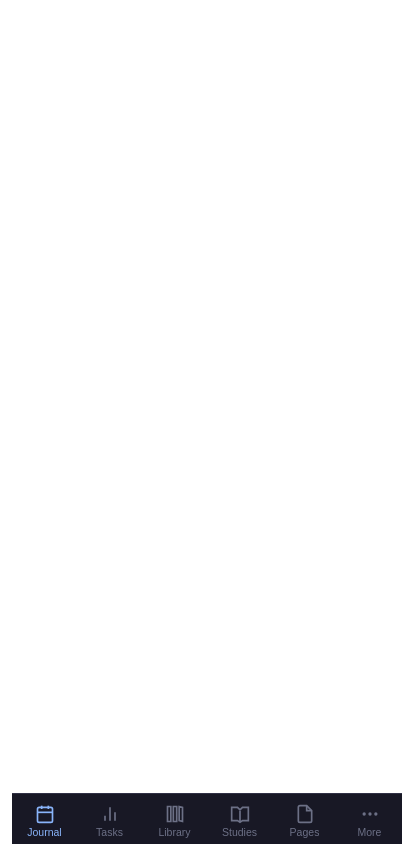
Test case: More menu › is a labelled menu button that reports whether it is open
Click the button "More" at (370, 821), box [337, 798, 402, 843]
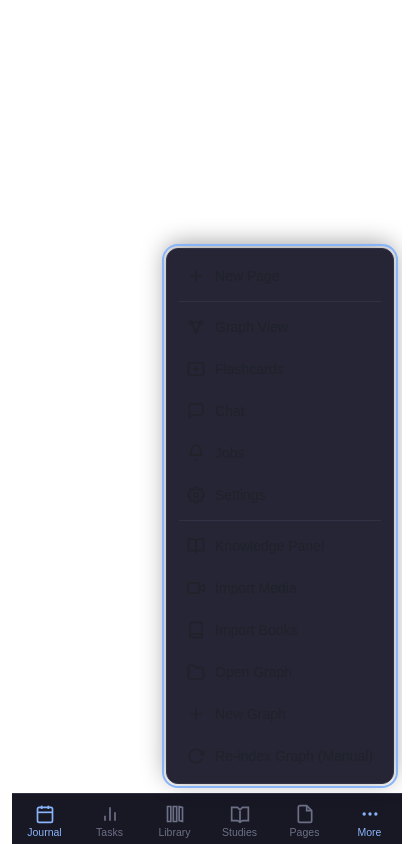
Now the button "More" is expanded, box [337, 798, 402, 843]
